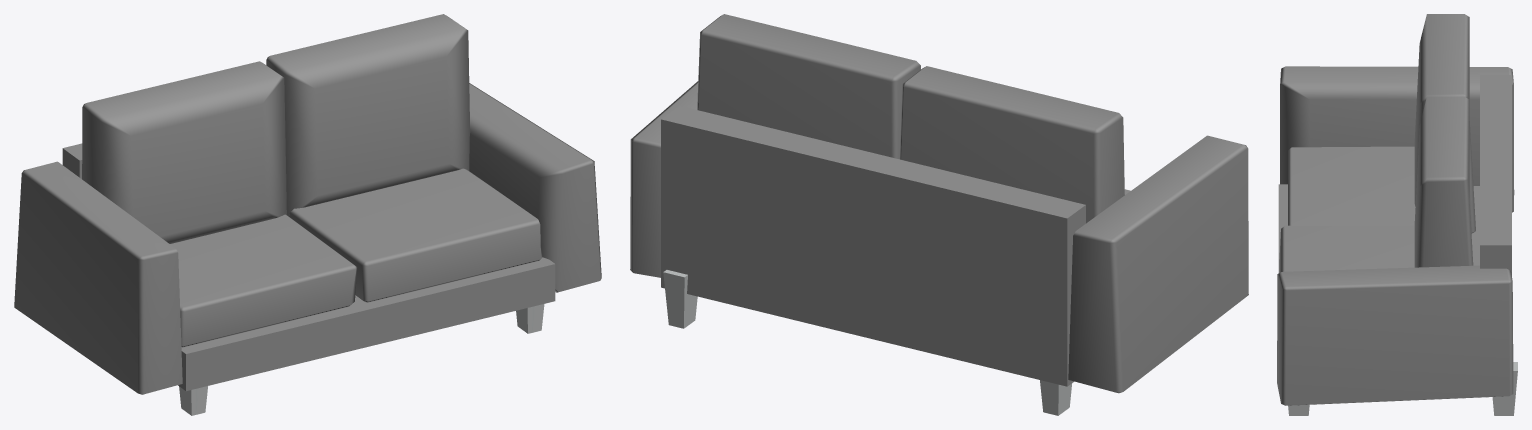
Rendered from Sofa.fbx.
3 views of the same model, side by side, from view 1: azimuth 30°, elevation 25°; view 2: azimuth 150°, elevation 25°; view 3: azimuth 270°, elevation 25° (orthographic). The views are drawn at different scales.
Visible parts, largest first — view 1: Sofa_Combined; view 2: Sofa_Combined; view 3: Sofa_Combined.
Boxes of the visible parts, bbox=[...] form: Sofa_Combined: bbox=[14, 14, 601, 415]; Sofa_Combined: bbox=[630, 14, 1248, 415]; Sofa_Combined: bbox=[1277, 14, 1517, 415].
Bounding box in the file's own units: 208 × 106 × 97.8.
